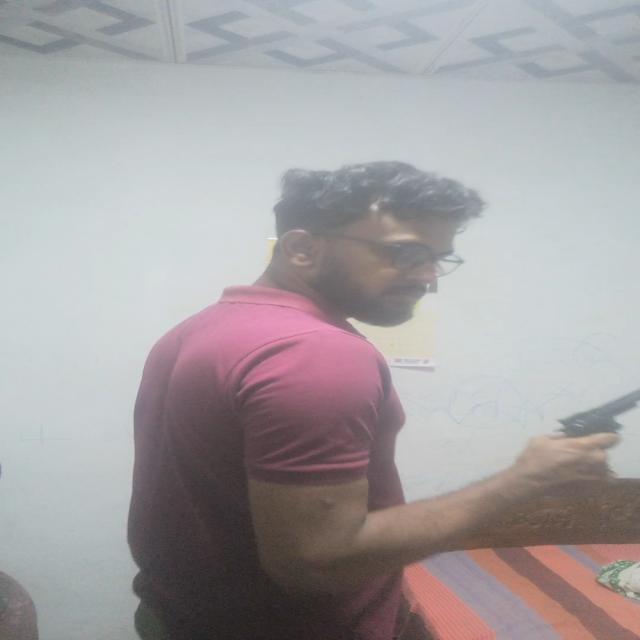Gun_Holder: (524, 383, 640, 506)
Person: (111, 151, 579, 640)
